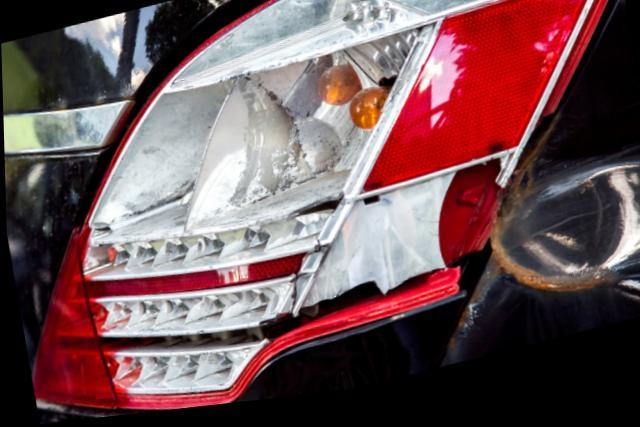dent: (490, 166, 640, 294)
lamp broken: (28, 0, 621, 415)
